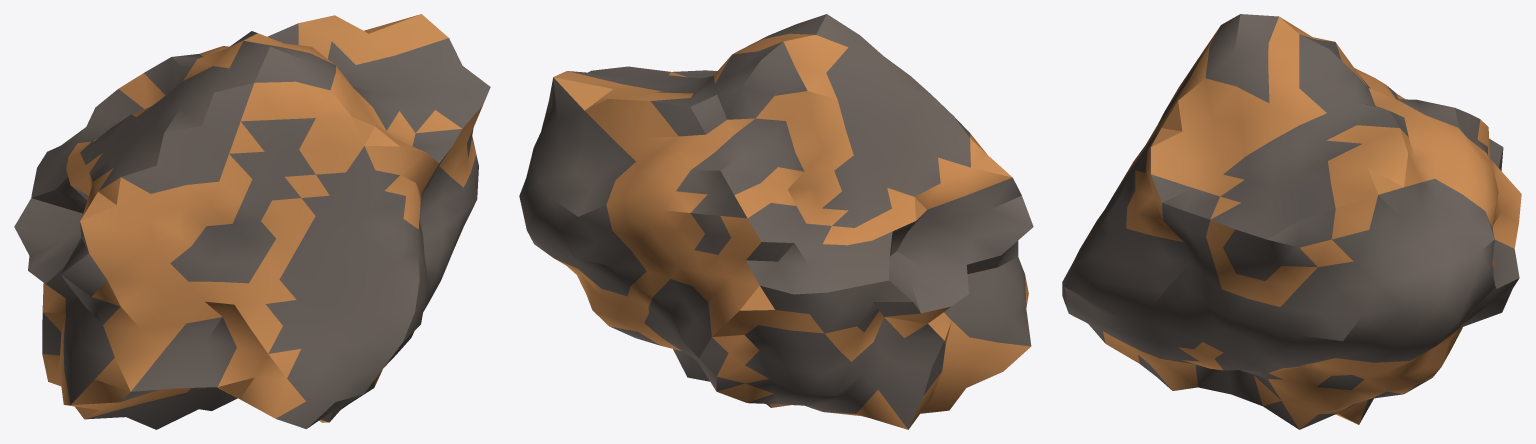
File: asteroid_iron_02.glb
3 renders of one model, left to right at view 1: azimuth 30°, elevation 25°; view 2: azimuth 150°, elevation 25°; view 3: azimuth 270°, elevation 25°, orthographic. The views are drawn at different scales.
Parts seen in each view (by area): view 1: asteroid_iron_02; view 2: asteroid_iron_02; view 3: asteroid_iron_02.
Part boxes in pixels (bbox=[...]): asteroid_iron_02: bbox=[14, 14, 490, 429]; asteroid_iron_02: bbox=[519, 14, 1033, 429]; asteroid_iron_02: bbox=[1062, 14, 1521, 429].
Size of the model in its own units: 2.6 by 2.06 by 2.19.
